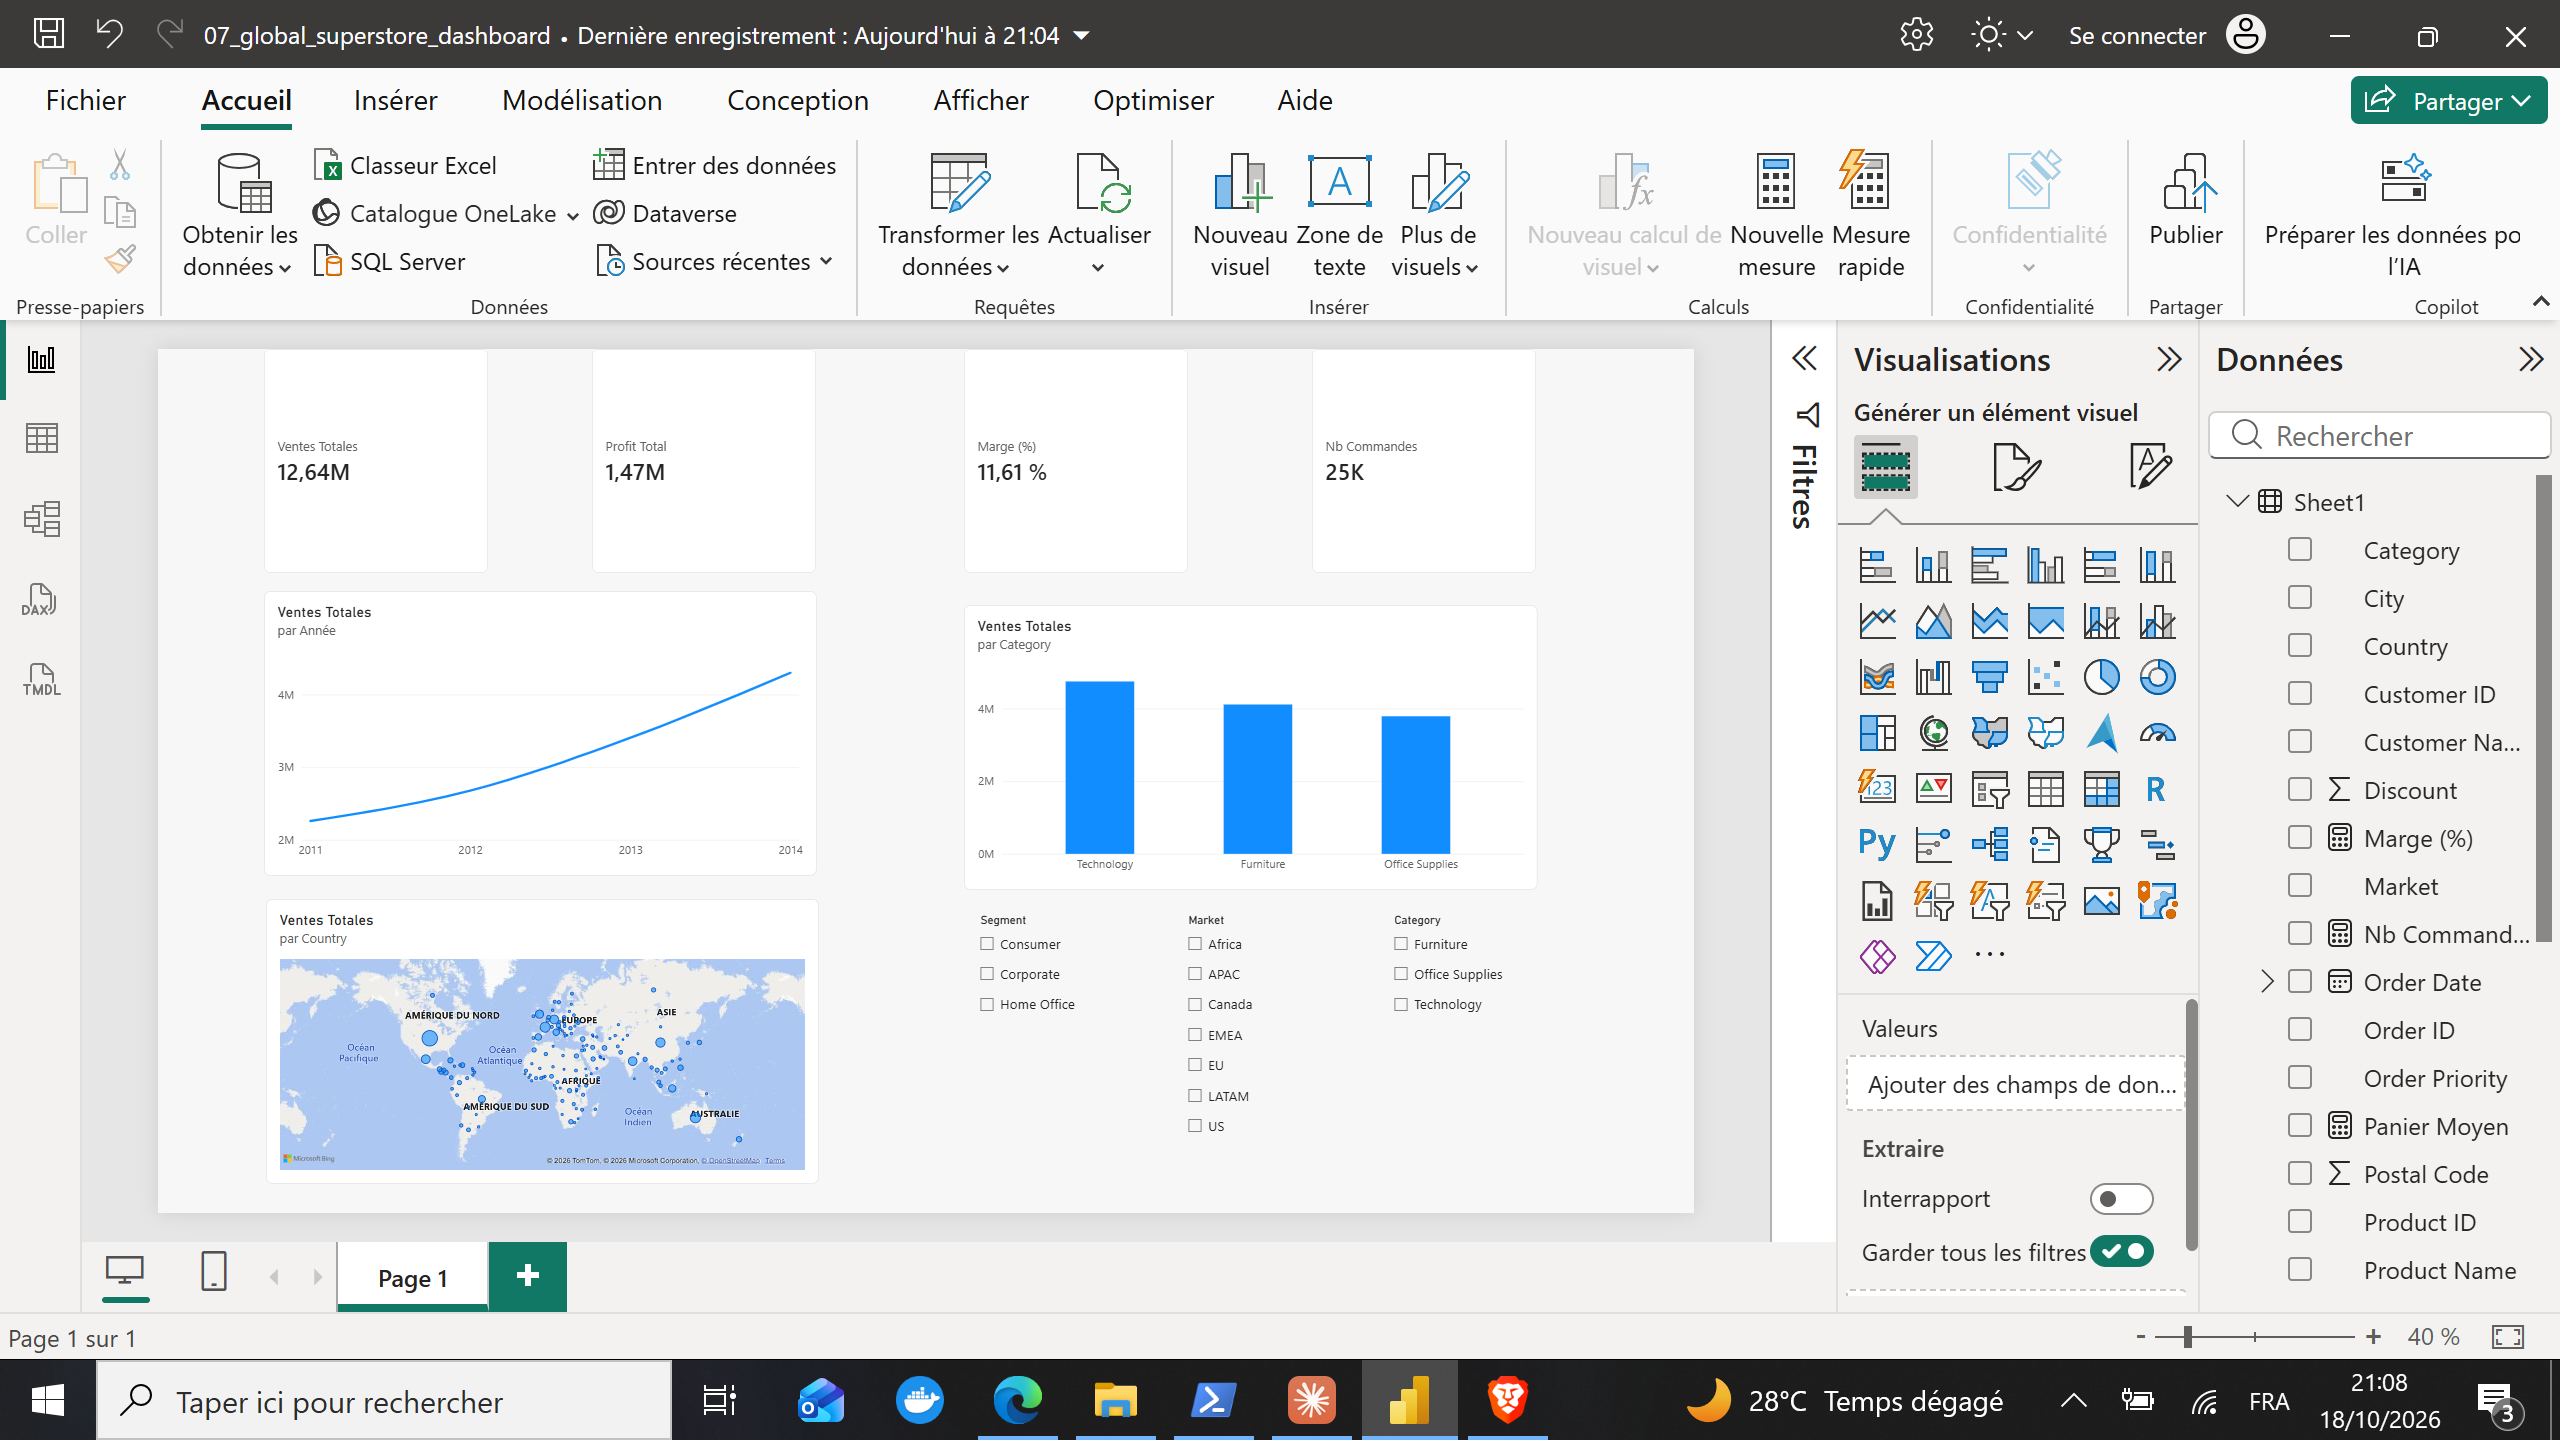

What the dashboard file says about the page in this screenshot:
{"tool":"powerbi","page":{"name":"Page 1","canvas":[1920,1080],"ordinal":0},"visuals":[{"type":"cardVisual","fields":{"Data":["Sheet1.Ventes Totales"]},"box":[133.5,0,280,280],"z":0},{"type":"cardVisual","fields":{"Data":["Sheet1.Profit Total"]},"box":[543.5,0,280,280],"z":1000},{"type":"cardVisual","fields":{"Data":["Sheet1.Marge (%)"]},"box":[1007.4,0,280,280],"z":2000},{"type":"cardVisual","fields":{"Data":["Sheet1.Nb Commandes"]},"box":[1443.1,0,280,280],"z":3000},{"type":"lineChart","fields":{"Category":["Sheet1.Order Date.Variation.Hiérarchie de dates.Année","Sheet1.Order Date.Variation.Hiérarchie de dates.Trimestre","Sheet1.Order Date.Variation.Hiérarchie de dates.Mois","Sheet1.Order Date.Variation.Hiérarchie de dates.Jour"],"Y":["Sheet1.Ventes Totales"]},"box":[133.5,302.2,691.1,356.1],"z":4000},{"type":"clusteredColumnChart","fields":{"Category":["Sheet1.Category"],"Y":["Sheet1.Ventes Totales"]},"box":[1007.4,321,716.9,356.1],"z":4001},{"type":"map","fields":{"Category":["Sheet1.Country"],"Size":["Sheet1.Ventes Totales"]},"box":[134,687,691,356],"z":4002},{"type":"slicer","fields":{"Values":["Sheet1.Segment"]},"box":[1019.9,705.9,227.2,356.1],"z":4003},{"type":"slicer","fields":{"Values":["Sheet1.Market"]},"box":[1279.1,705.2,227.2,356.1],"z":4004},{"type":"slicer","fields":{"Values":["Sheet1.Category"]},"box":[1538.3,705.9,194.4,356.1],"z":4005}]}

Visuals, with their boxes on the page's 1920x1080 design canvas (x1, y1, x2, y2). These are canvas units, not pixel positions in the 2560x1440 screenshot, which may show the page scaled, cropped or inside an application window:
cardVisual - Sheet1.Ventes Totales: box(134, 0, 414, 280)
cardVisual - Sheet1.Profit Total: box(544, 0, 824, 280)
cardVisual - Sheet1.Marge (%): box(1007, 0, 1287, 280)
cardVisual - Sheet1.Nb Commandes: box(1443, 0, 1723, 280)
lineChart - Sheet1.Order Date.Variation.Hiérarchie de dates.Année x Sheet1.Order Date.Variation.Hiérarchie de dates.Trimestre: box(134, 302, 825, 658)
clusteredColumnChart - Sheet1.Category x Sheet1.Ventes Totales: box(1007, 321, 1724, 677)
map - Sheet1.Country x Sheet1.Ventes Totales: box(134, 687, 825, 1043)
slicer - Sheet1.Segment: box(1020, 706, 1247, 1062)
slicer - Sheet1.Market: box(1279, 705, 1506, 1061)
slicer - Sheet1.Category: box(1538, 706, 1733, 1062)
